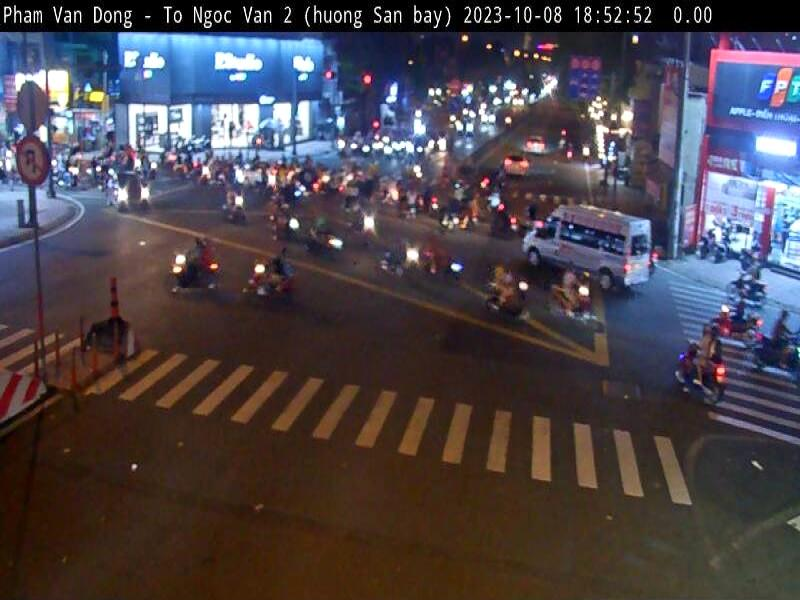car: (524, 200, 652, 295)
